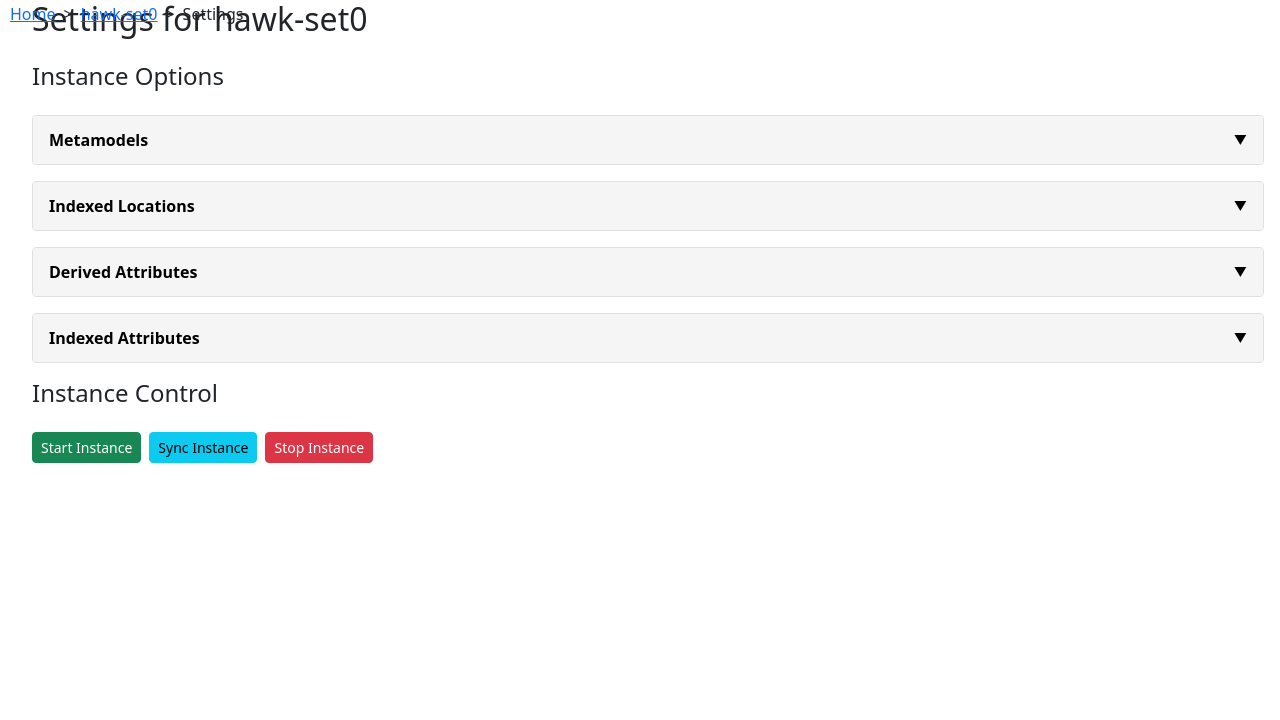
Test: SettingsContent › opens add derived attribute modal
Click the button "Derived Attributes ▼".
click(123, 272)  # box left=33, top=248, right=1263, bottom=296
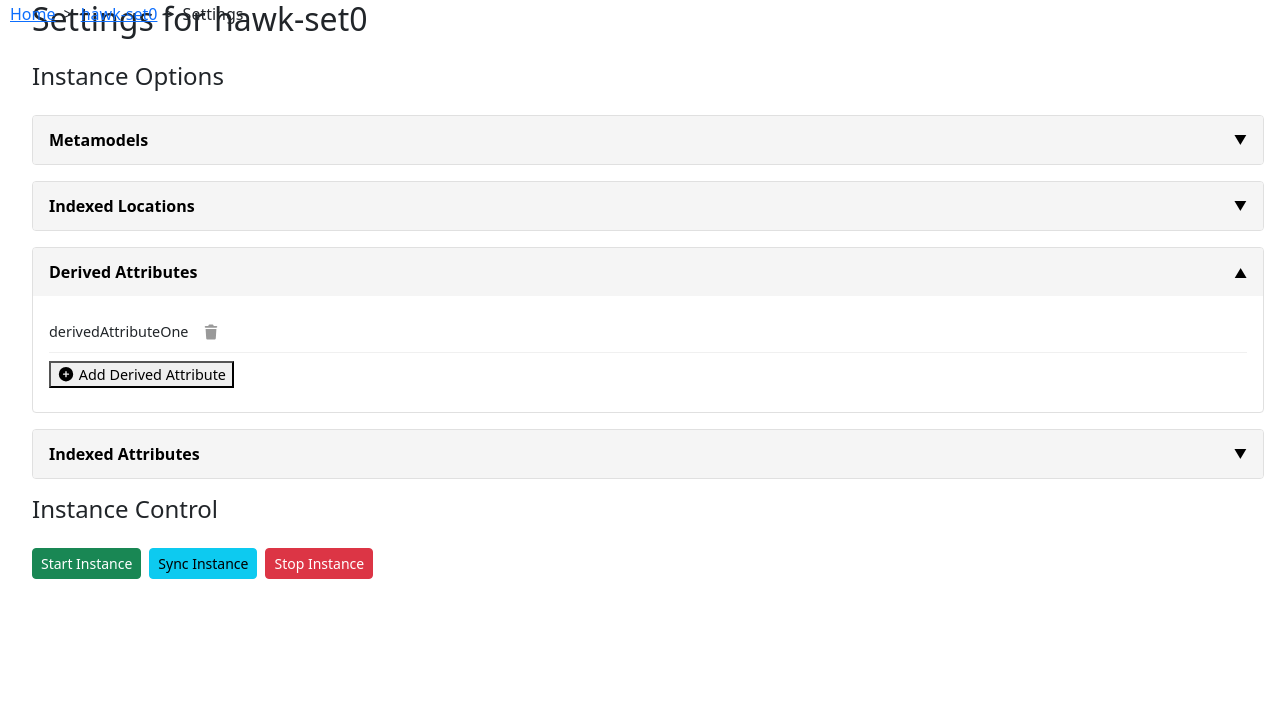
Check: the text "derivedAttributeOne" is shown, box left=49, top=322, right=188, bottom=341
Check: the button "Add Derived Attribute" is shown
Click the button "Add Derived Attribute".
click(142, 375)  # box left=49, top=361, right=234, bottom=388
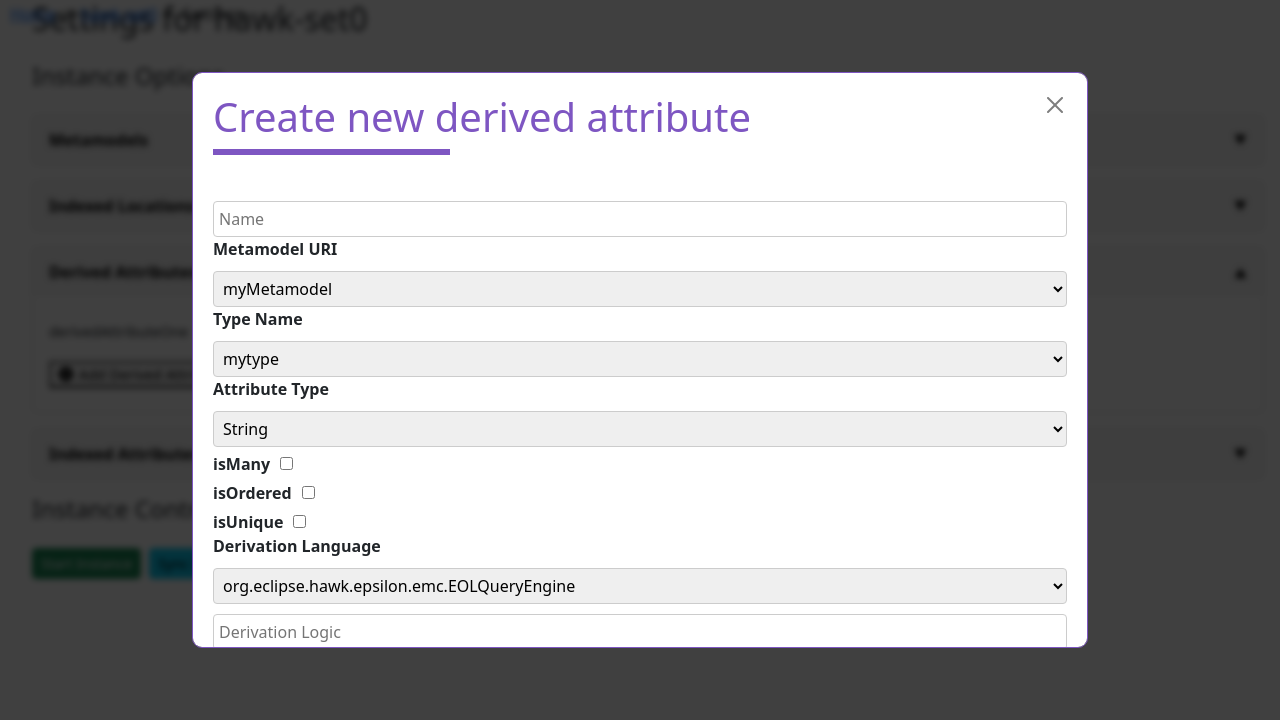
Check: the heading "Create new derived attribute" is shown, box left=213, top=93, right=751, bottom=141
